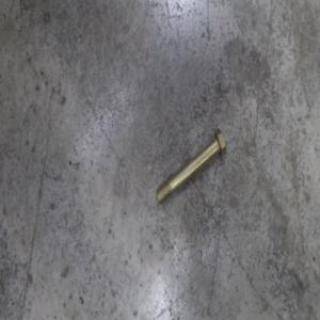Bolttrack_idkeyframe: (154, 126, 226, 204)
